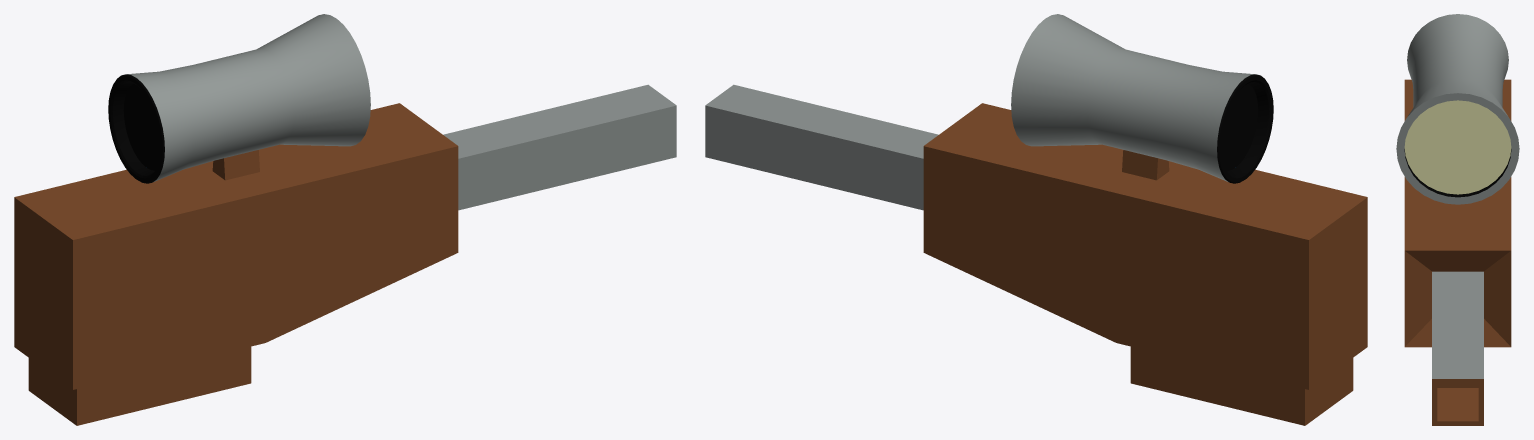
The model's file is BasicScoped.glb.
3 views of the same model, side by side, from view 1: azimuth 30°, elevation 25°; view 2: azimuth 150°, elevation 25°; view 3: azimuth 270°, elevation 25° (orthographic). The views are drawn at different scales.
Parts seen in each view (by area): view 1: Gun, Scope, Lens; view 2: Gun, Scope, Lens; view 3: Gun, Scope, Lens.
Boxes of the visible parts, x1,y1,x2,y2 form: Gun: (14, 84, 676, 425); Scope: (108, 14, 370, 183); Lens: (123, 83, 160, 170); Gun: (705, 84, 1367, 425); Scope: (1011, 14, 1273, 183); Lens: (1221, 83, 1258, 170); Gun: (1404, 79, 1511, 425); Scope: (1396, 14, 1519, 204); Lens: (1404, 100, 1511, 194).
Size of the model in its own units: 1.46 by 0.721 by 0.2766.
Materials: 6 (1 with a texture image).
